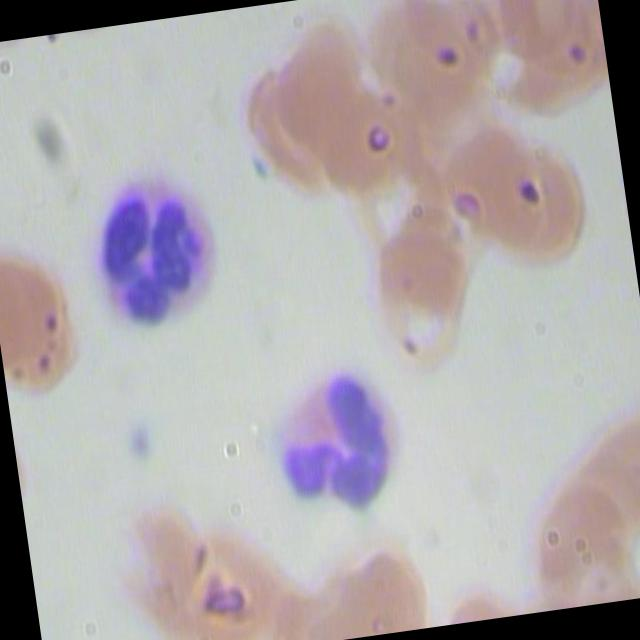Platelets: (120, 419, 166, 474)
RBC: (363, 218, 482, 373), (485, 130, 604, 284), (0, 233, 92, 405), (262, 14, 372, 146), (483, 0, 588, 62)
WBC: (80, 155, 234, 328), (261, 356, 415, 528)
